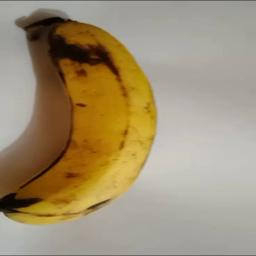Banana Semifresh: (3, 17, 159, 225)
